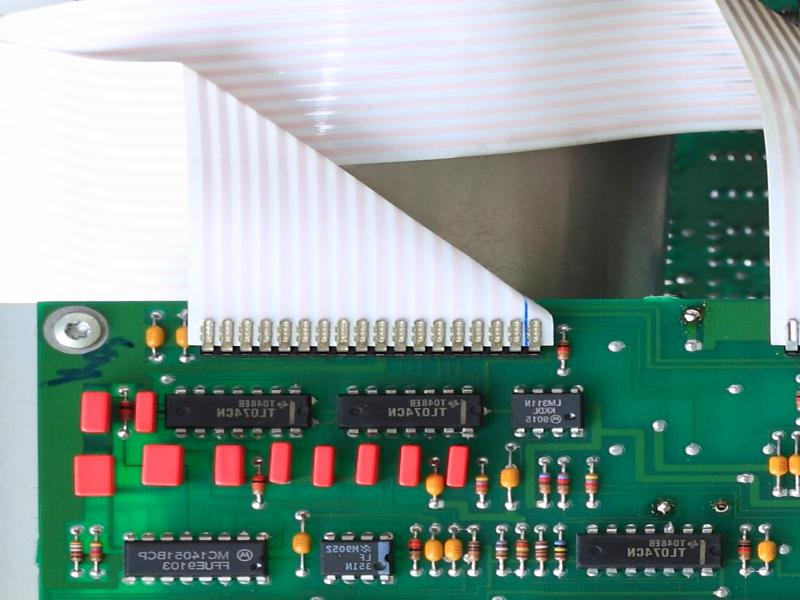Resistor: (734, 533, 756, 566), (86, 538, 109, 568), (581, 468, 602, 499), (531, 535, 550, 569), (551, 535, 571, 566), (249, 469, 269, 499), (536, 467, 553, 502), (513, 534, 531, 567), (472, 471, 493, 499), (554, 336, 573, 366), (117, 396, 133, 431), (492, 536, 511, 565), (66, 538, 84, 568), (464, 539, 483, 567), (556, 469, 573, 499), (407, 536, 422, 566)
